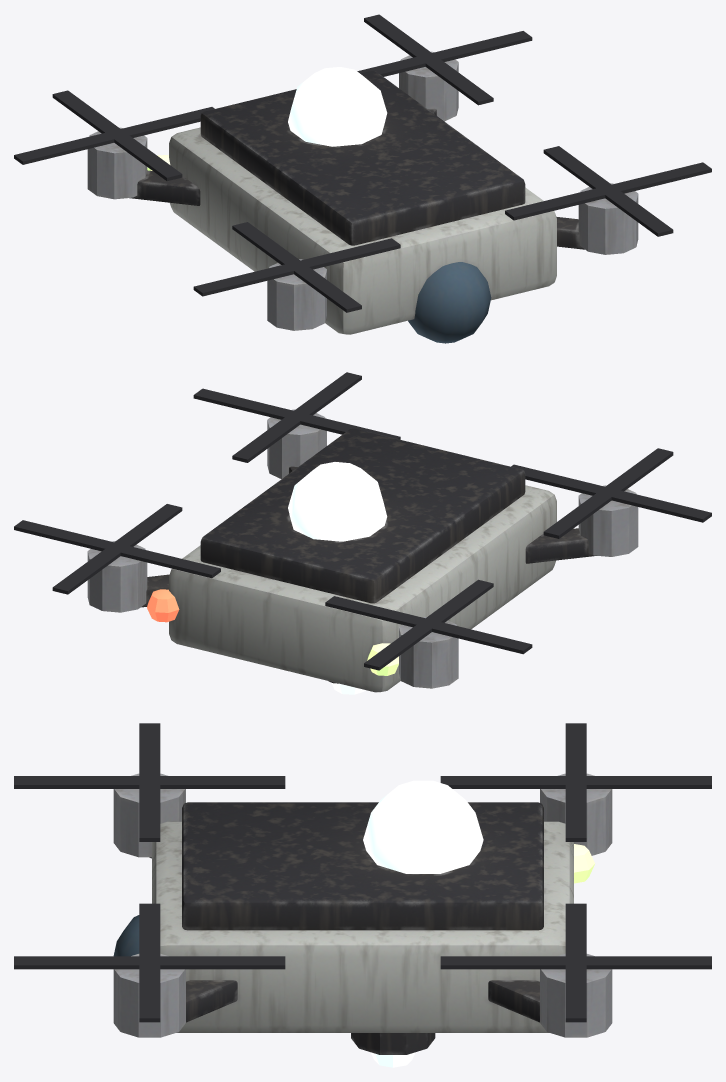
Rendered from drone.glb.
The picture shows the model from 3 angles, top to bottom: view 1: azimuth 30°, elevation 25°; view 2: azimuth 150°, elevation 25°; view 3: azimuth 270°, elevation 25°; orthographic projection. The views are drawn at different scales.
Visible parts, largest first — view 1: Hull, Rotor3, Rotor4, Rotor2, Rotor1; view 2: Hull, Rotor2, Rotor1, Rotor3, Rotor4; view 3: Hull, Rotor1, Rotor4, Rotor3, Rotor2.
Part boxes in pixels (x1,y1,x2,y2): Hull: [87, 51, 638, 343]; Rotor3: [193, 222, 400, 312]; Rotor4: [505, 146, 711, 236]; Rotor2: [14, 90, 214, 181]; Rotor1: [357, 14, 532, 105]; Hull: [87, 409, 638, 694]; Rotor2: [325, 579, 532, 670]; Rotor1: [14, 504, 220, 594]; Rotor3: [511, 448, 711, 538]; Rotor4: [193, 372, 400, 462]; Hull: [113, 773, 612, 1067]; Rotor1: [440, 903, 711, 1022]; Rotor4: [14, 903, 285, 1022]; Rotor3: [14, 723, 285, 841]; Rotor2: [440, 723, 711, 841].
Size of the model in its own units: 2.31 by 1.03 by 2.31.
Materials: 8 (7 with a texture image).
